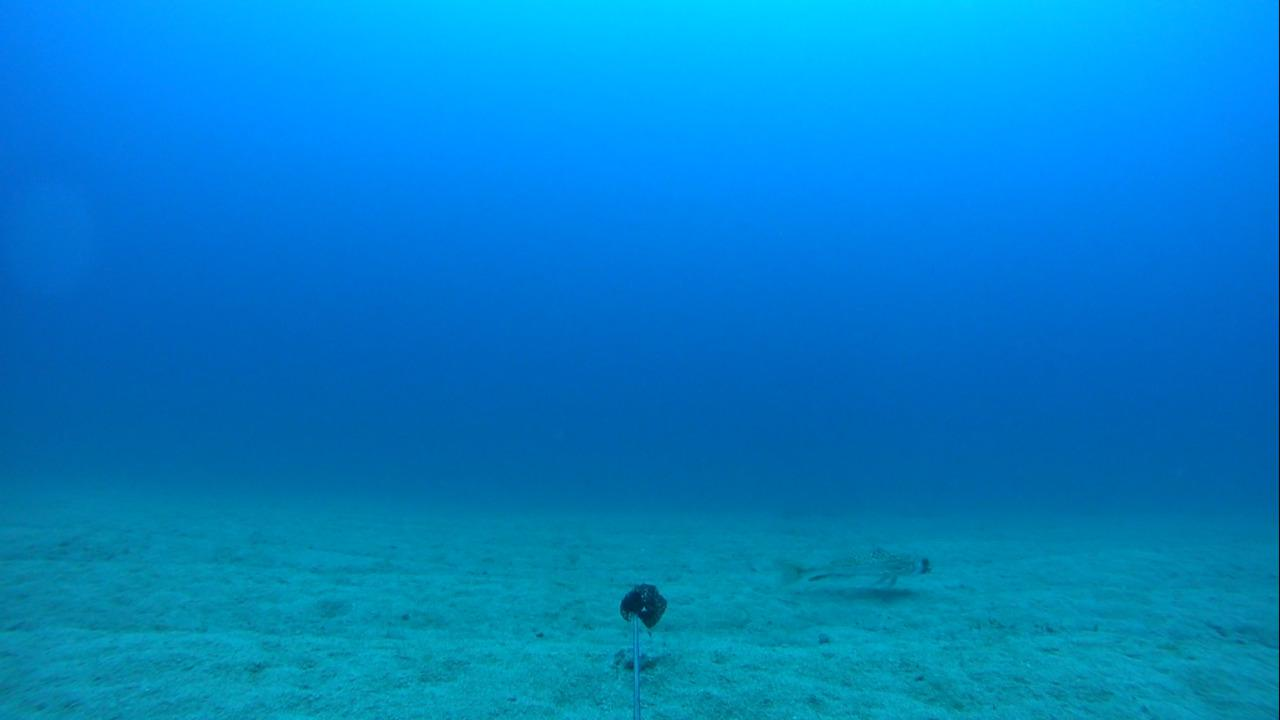dactylopterus: (762, 541, 933, 602)
